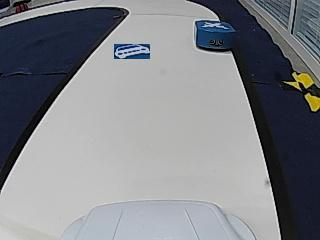prop: (195, 19, 235, 53)
